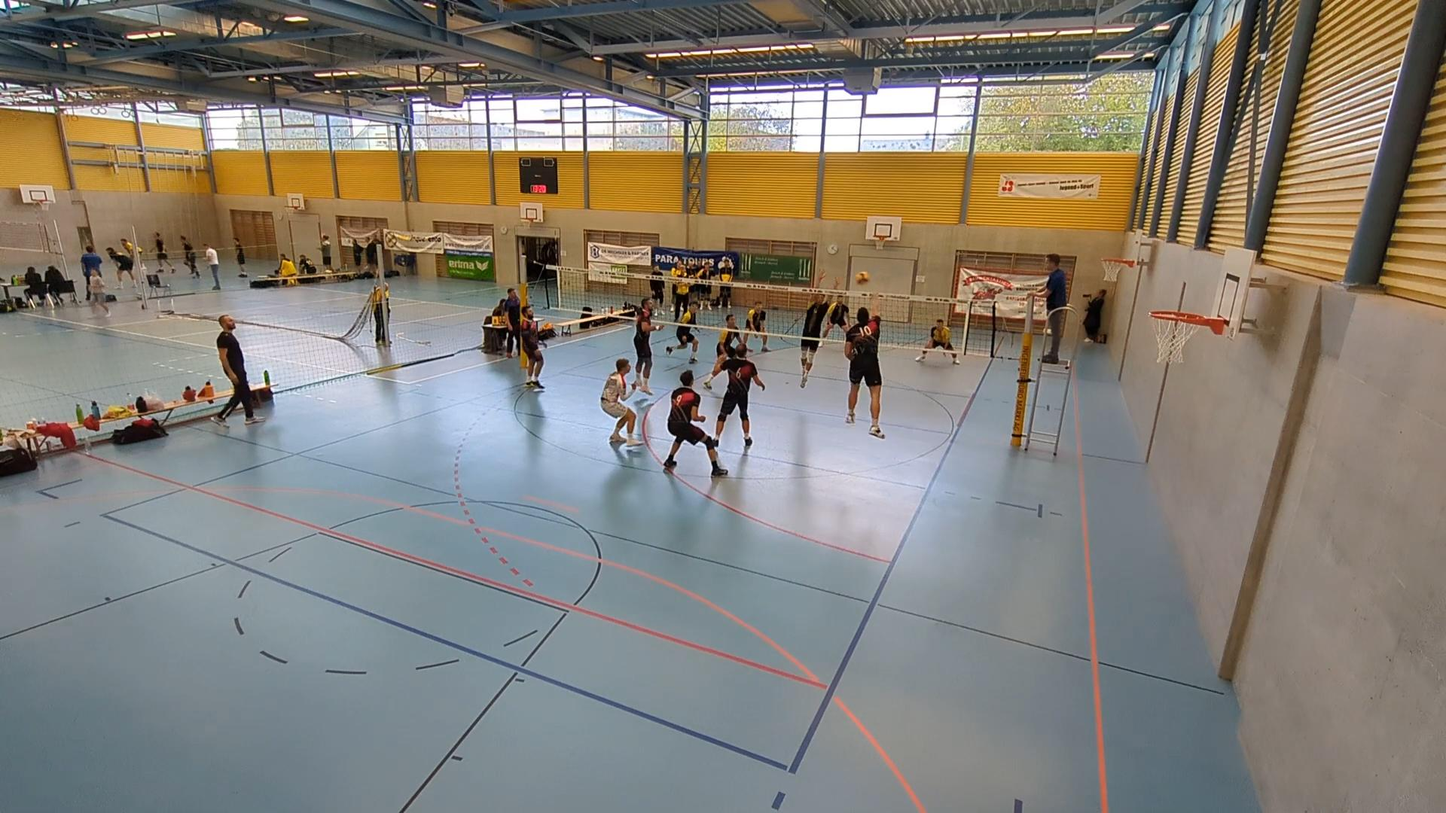attacco: (839, 289, 887, 440)
